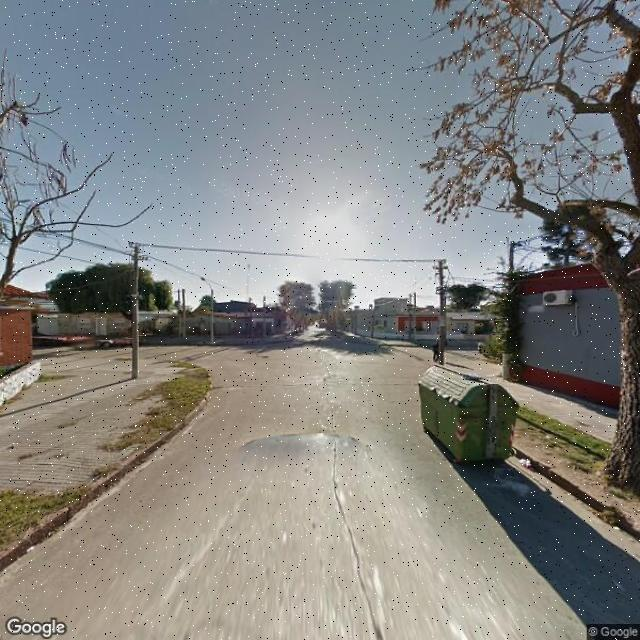garbage container: (414, 350, 535, 493)
